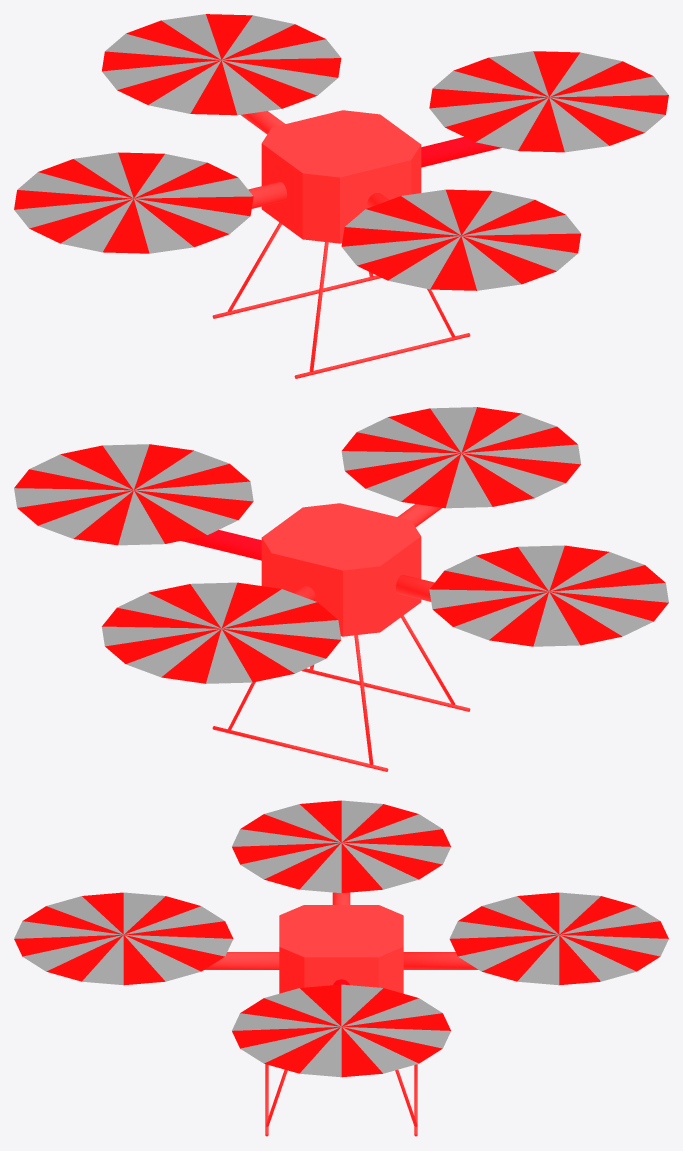
The model's file is quadrotor_base_red.dae.
3 views of the same model, one above another, from view 1: azimuth 30°, elevation 25°; view 2: azimuth 150°, elevation 25°; view 3: azimuth 270°, elevation 25° (orthographic). The views are drawn at different scales.
Visible parts, largest first — view 1: MainBody_002; view 2: MainBody_002; view 3: MainBody_002.
Boxes of the visible parts, x1,y1,x2,y2 form: MainBody_002: [14, 14, 668, 378]; MainBody_002: [14, 407, 668, 771]; MainBody_002: [14, 800, 668, 1136].
Bounding box in the file's own units: 0.7911 × 0.7911 × 0.2225.
